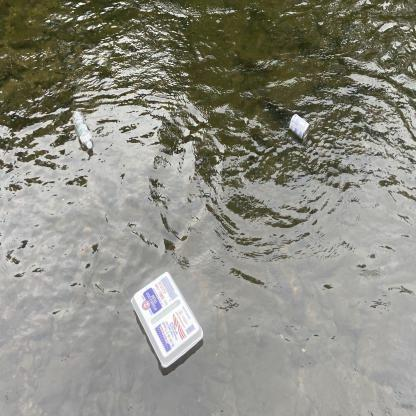Metal: (284, 112, 315, 143)
Plastic: (129, 266, 210, 374), (68, 104, 97, 153)
